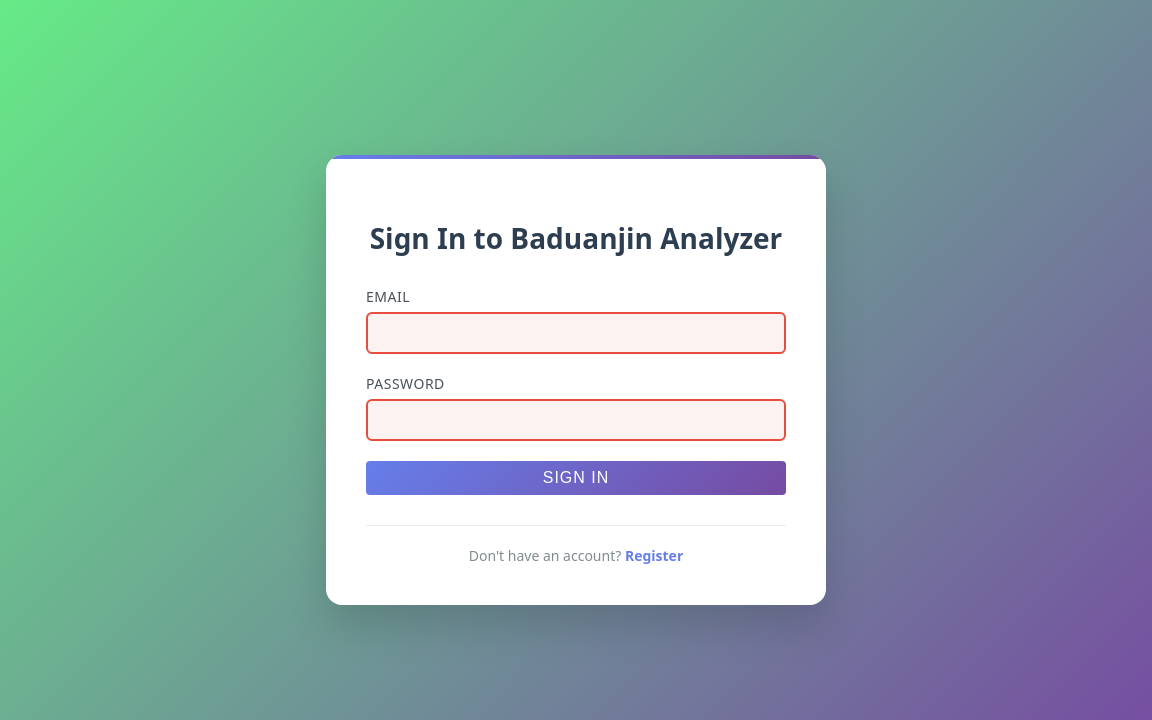
Test case: LoginForm › displays error message on login failure
Type "test@test.com" into the field labelled "Email" at (576, 333), box [366,312,786,354]
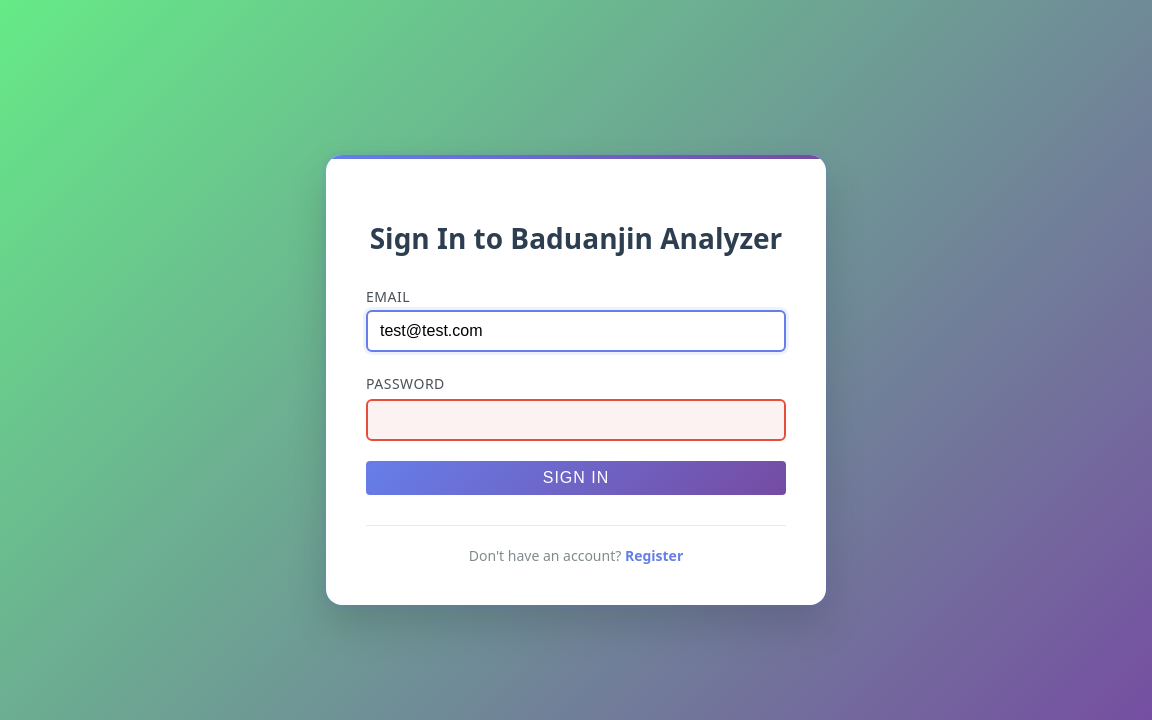
Type "wrongpassword" into the password field labelled "Password" at (576, 420), box [366,399,786,441]
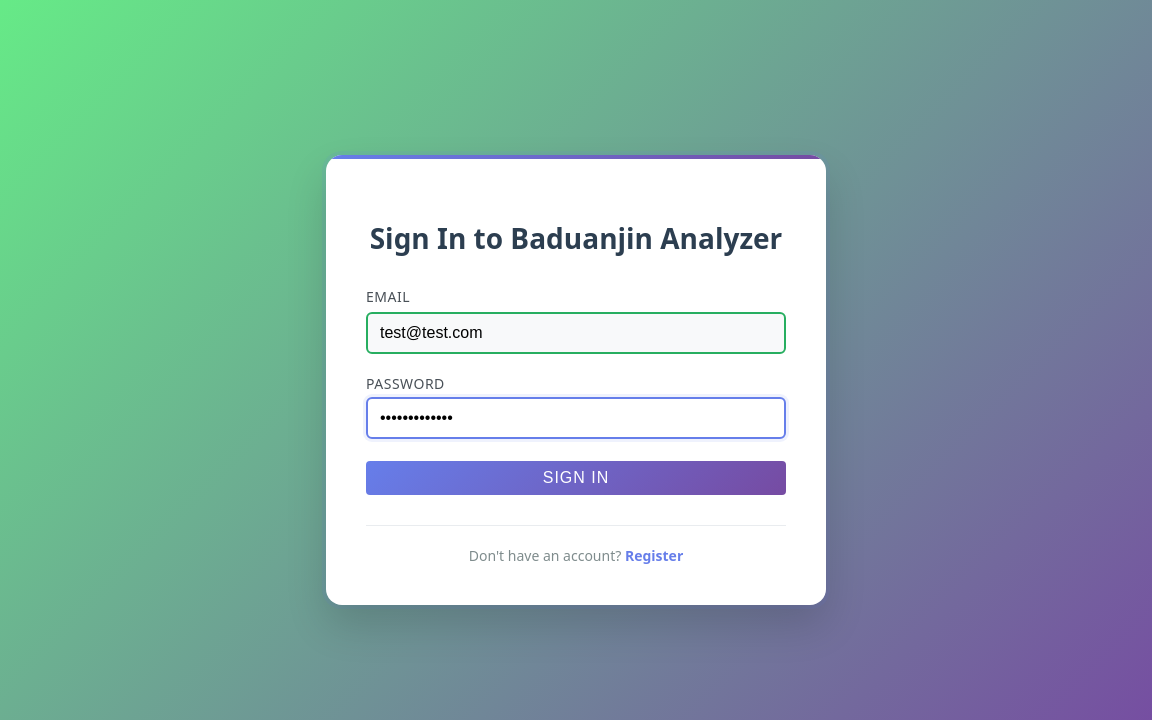
Click the button "Sign In" at (576, 478), box [366,461,786,495]
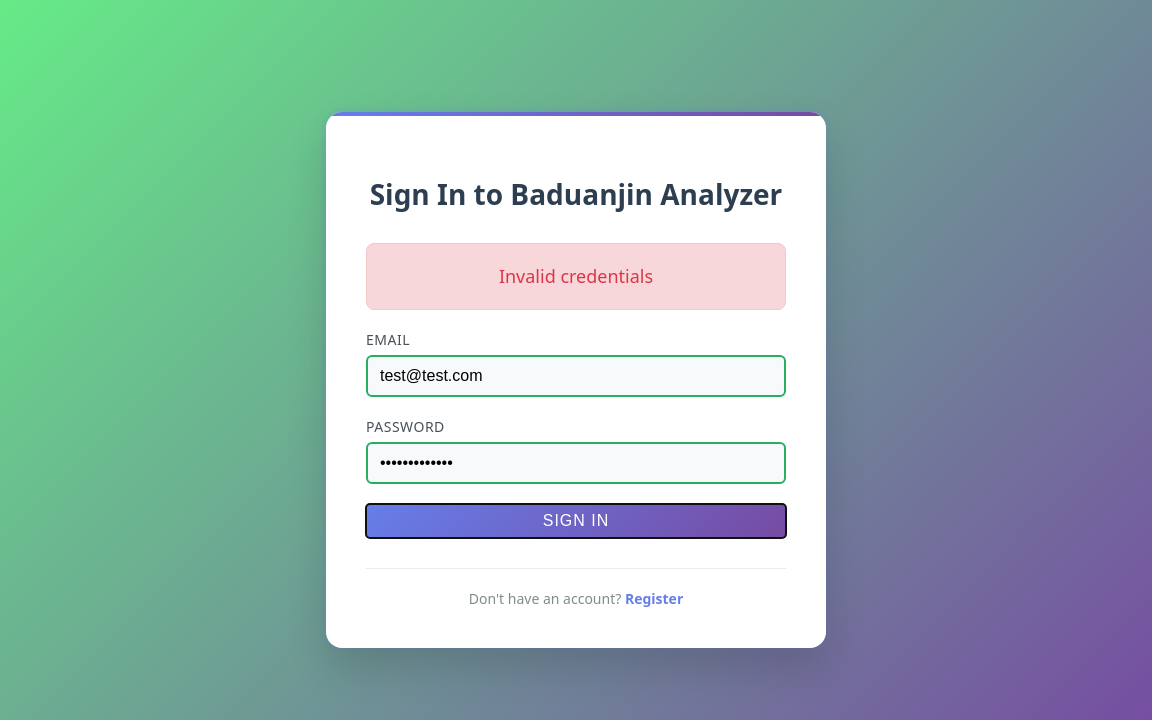
Result: the text "Invalid credentials" is shown at [366,243,786,310]
